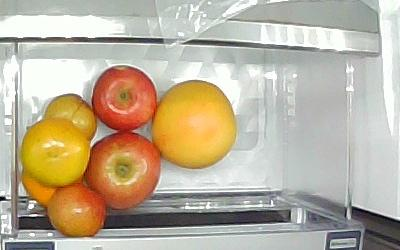apple: (85, 133, 161, 209), (90, 65, 156, 132)
grapefruit: (149, 79, 239, 170)
persimmon: (22, 117, 90, 186), (21, 171, 58, 204)
prune: (45, 184, 108, 238), (42, 94, 98, 141)
